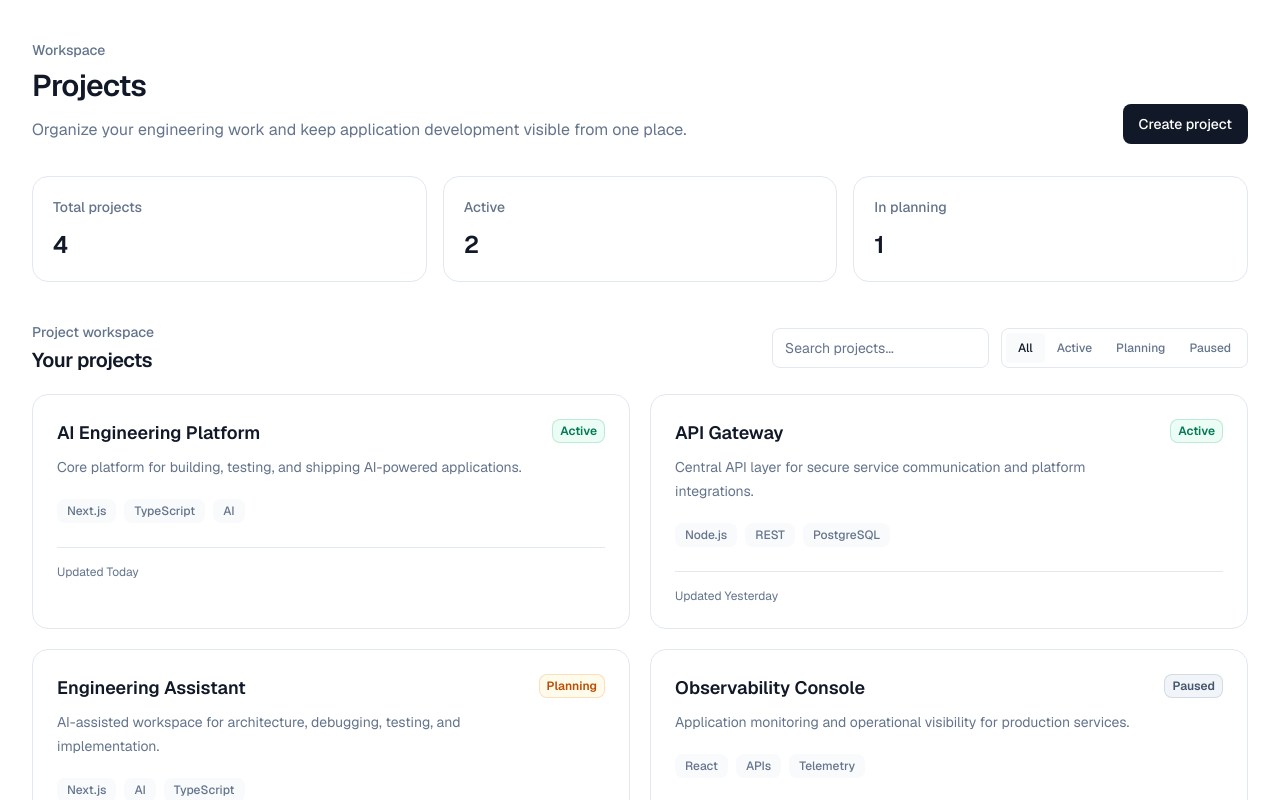
Test case: ProjectsPage › filters projects by status
What coordinates should you click on to do the following:
click the button "Planning"
I would click on:
 (1141, 348)
Its box is 1104,333 -> 1177,363.
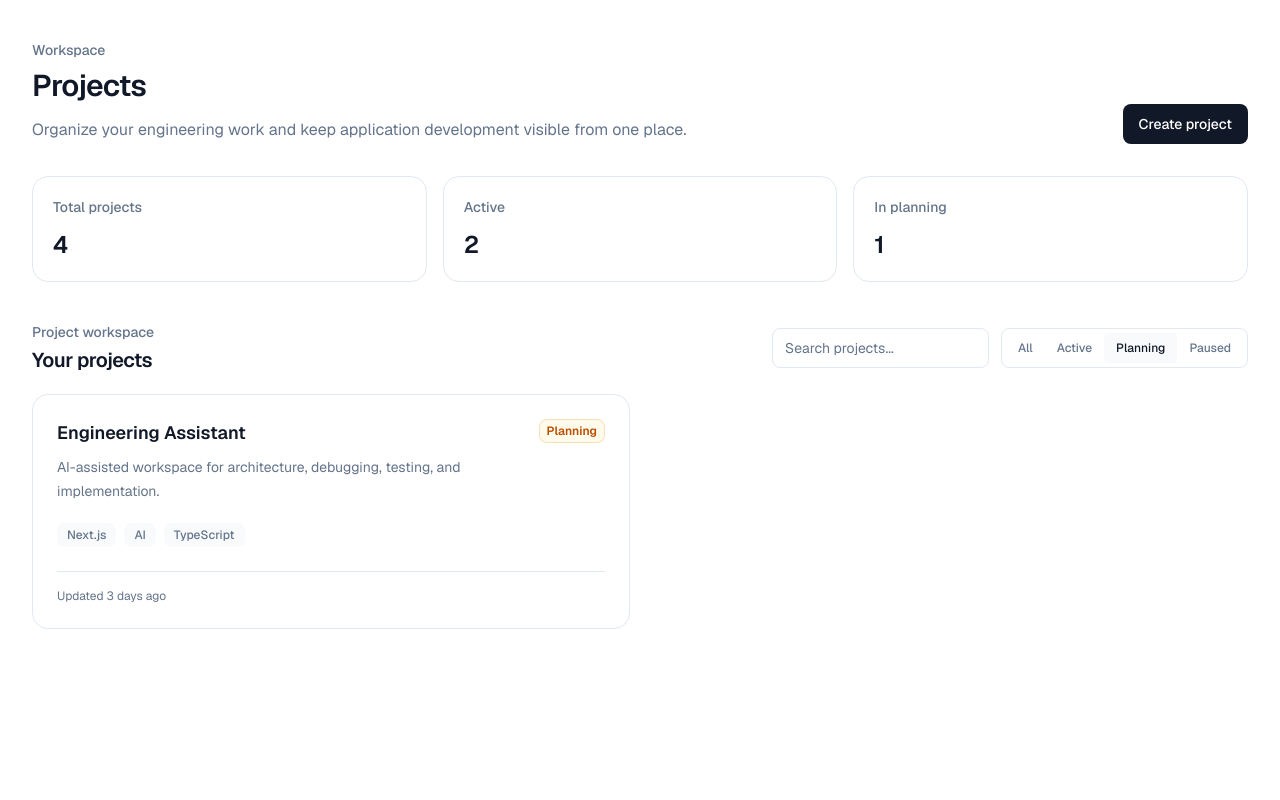
expect the heading "Engineering Assistant" is shown: met, box 57,421 -> 246,444
expect the heading "API Gateway" is gone: met
